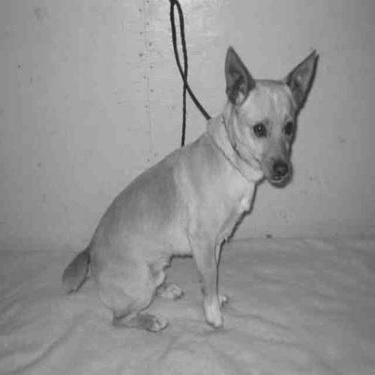dog: (39, 42, 323, 340)
